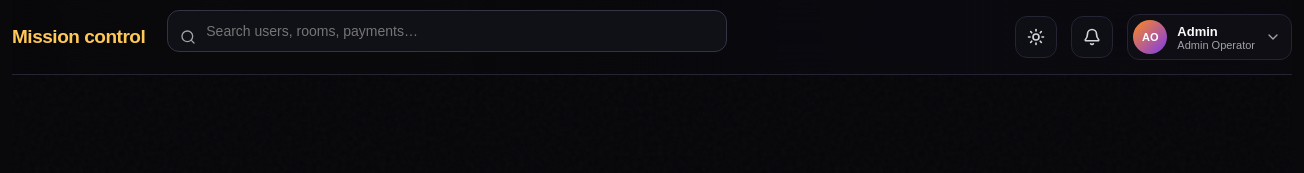
it: Topbar identity + badge › shows the role and email from /auth/me
Click the button named "Notifications". click: x=1092, y=37
box: [1071,16,1113,58]
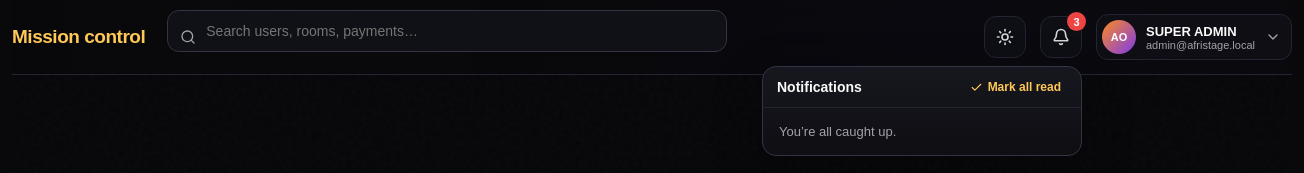
Expected: the text "admin@afristage.local" is shown, [1146,38,1255,50]
Expected: the text "SUPER ADMIN" is shown, [1146,24,1236,38]
Expected: the text "3" is shown, [1067,12,1086,31]
